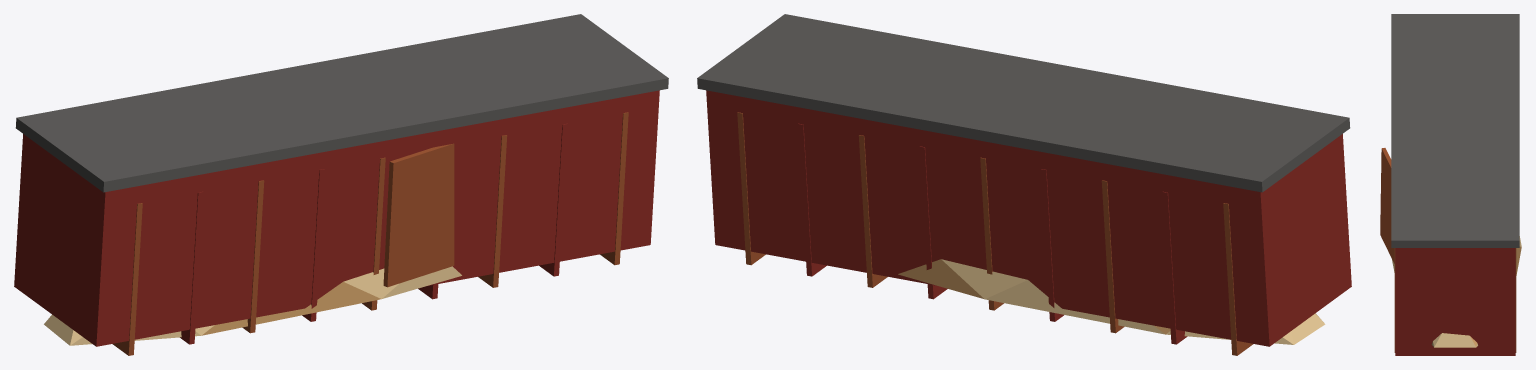
Rendered from Traincar.fbx.
The picture shows the model from 3 angles, left to right: view 1: azimuth 30°, elevation 25°; view 2: azimuth 150°, elevation 25°; view 3: azimuth 270°, elevation 25°; orthographic projection. The views are drawn at different scales.
Parts seen in each view (by area): view 1: Car, Detail, Sand; view 2: Car, Detail, Sand; view 3: Car, Detail, Sand.
Boxes of the visible parts, box(x1,y1,x2,y2) form: Car: box(14, 14, 668, 346); Detail: box(112, 112, 628, 355); Sand: box(44, 266, 461, 345); Car: box(697, 14, 1351, 346); Detail: box(737, 112, 1253, 355); Sand: box(898, 259, 1325, 344); Car: box(1391, 14, 1519, 355); Detail: box(1380, 148, 1516, 352); Sand: box(1392, 236, 1521, 347).
Bounding box in the file's own units: 34 × 12 × 10.
